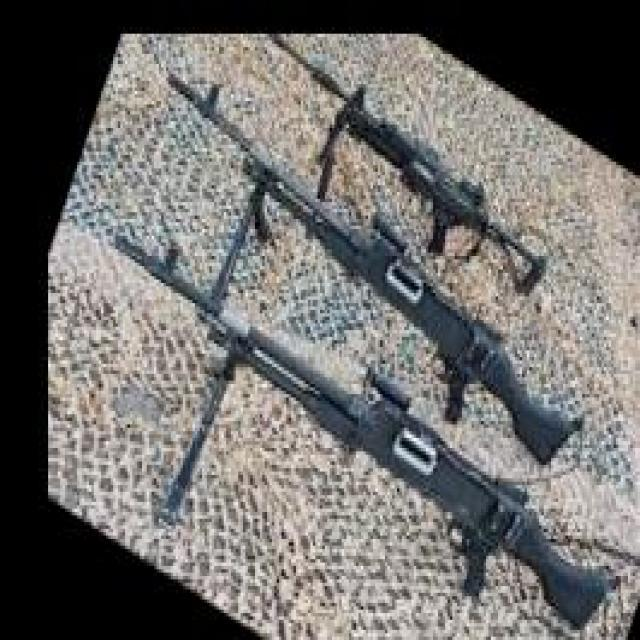weapon: (111, 232, 610, 631), (166, 74, 583, 466), (266, 35, 550, 299)
